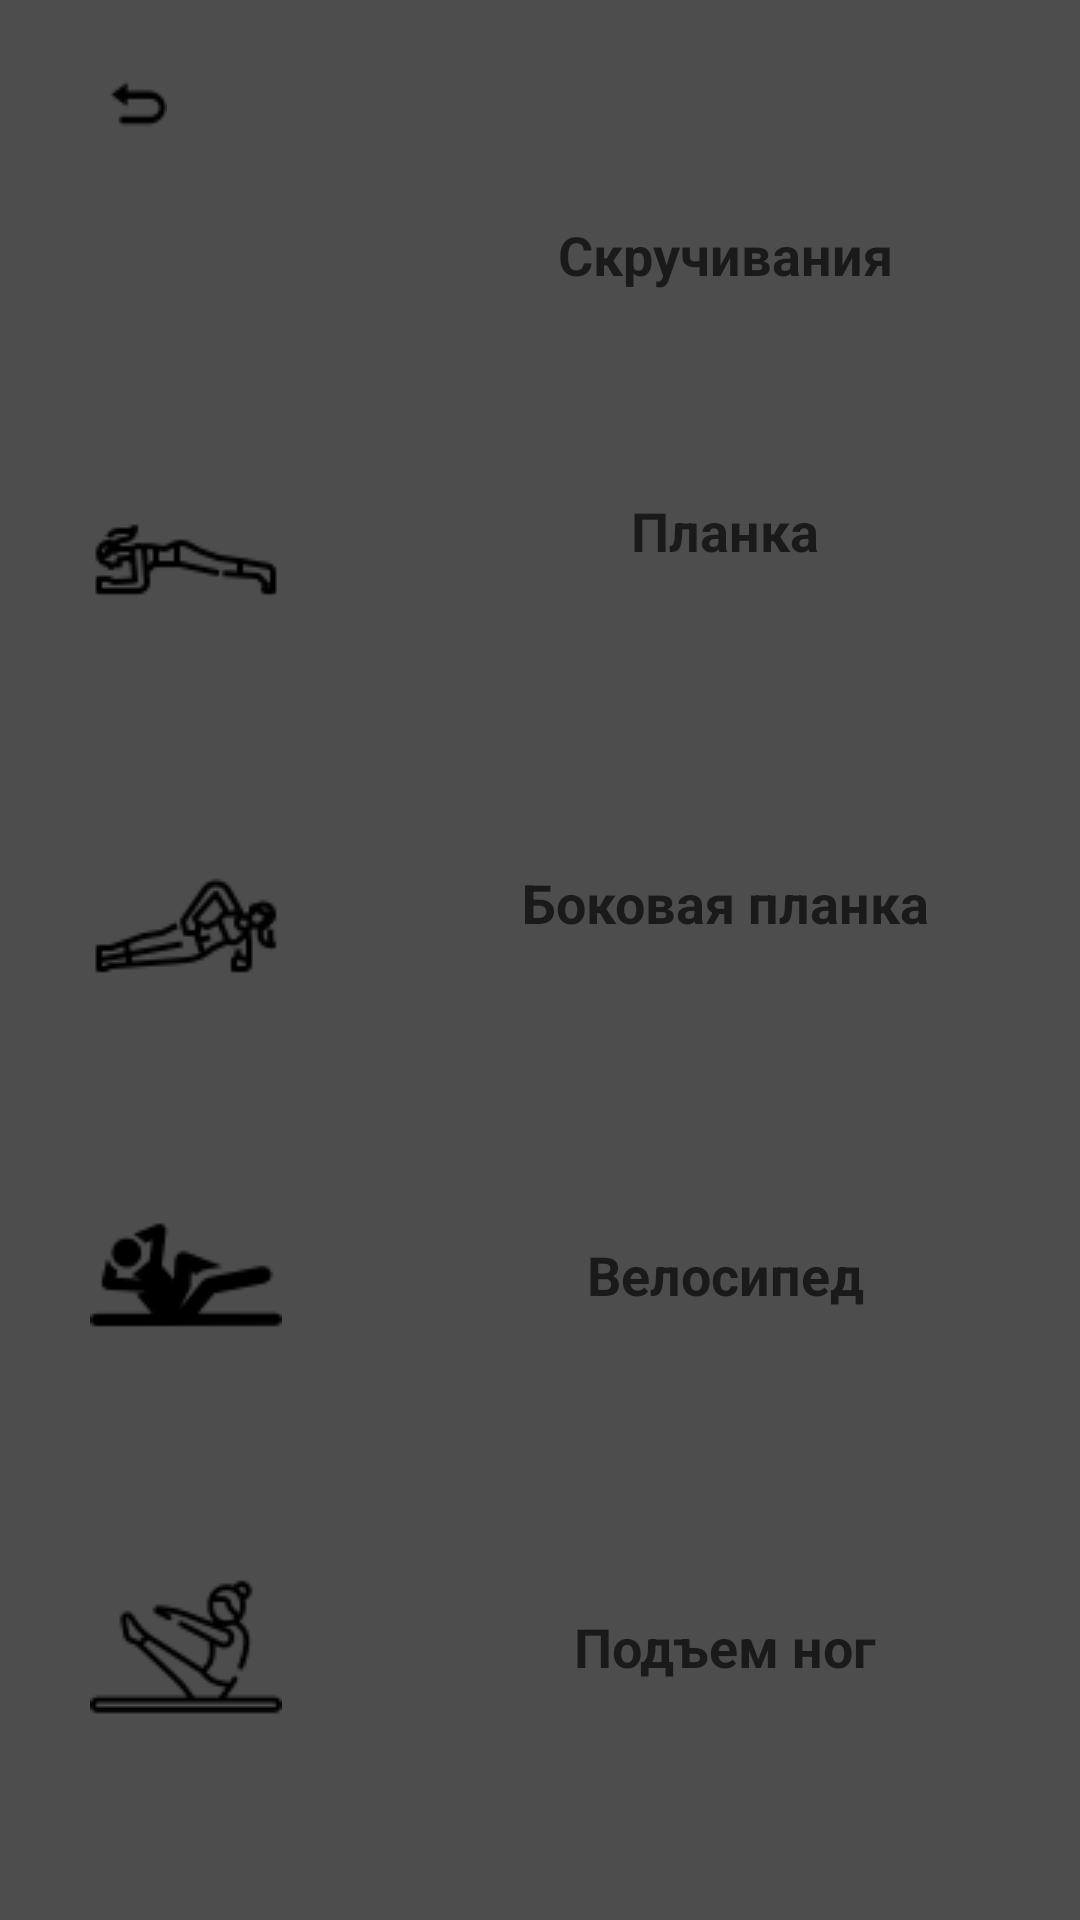

Icon click points for this 1080 × 1920 phone screenshot, format (x,y):
bicycle: (186,1275)
plank: (186,560)
return: (139,104)
side plank: (186,926)
